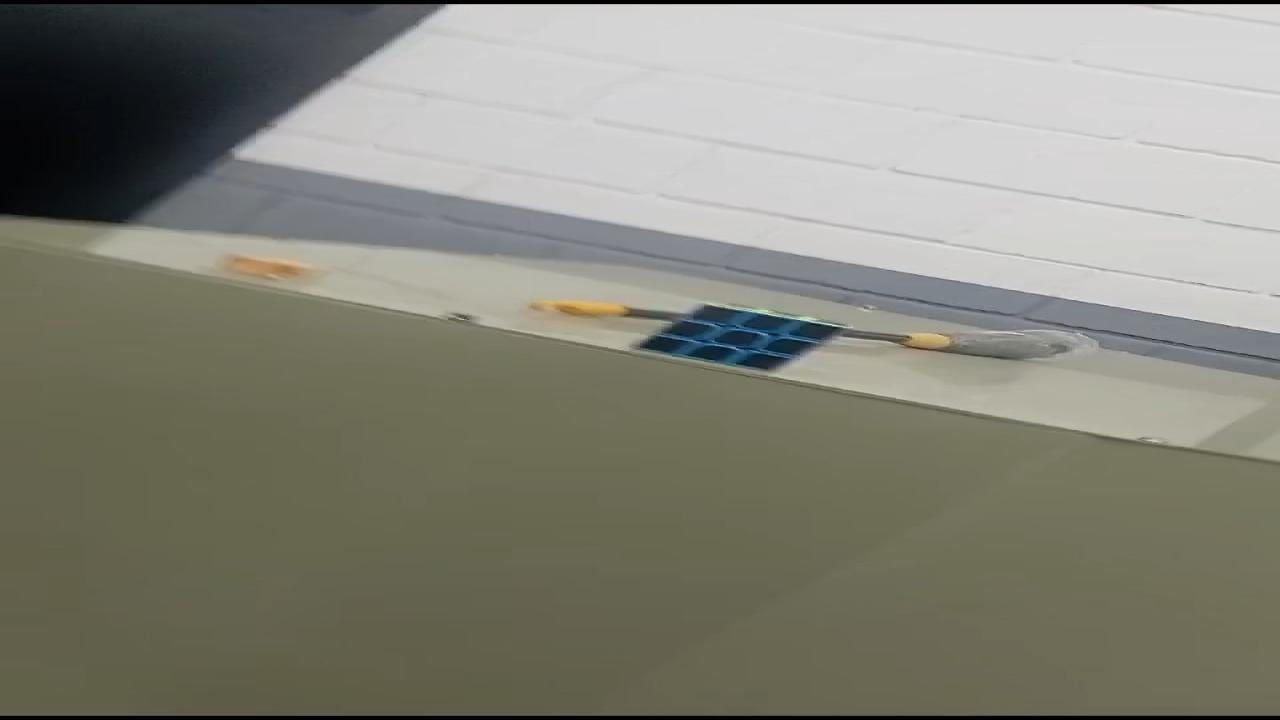Cube: (626, 301, 850, 375)
